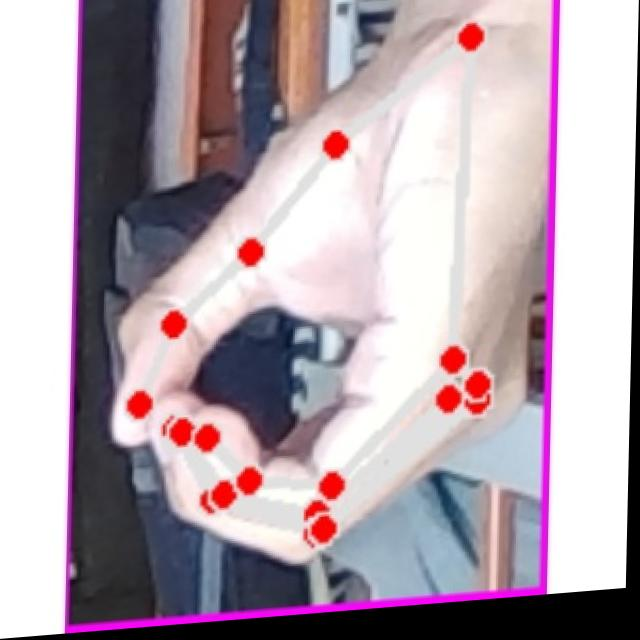O: (92, 0, 545, 603)
